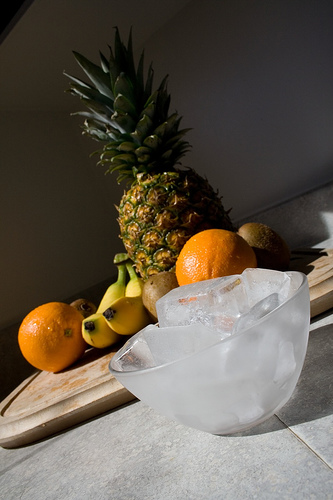pineapple: (56, 18, 237, 287)
